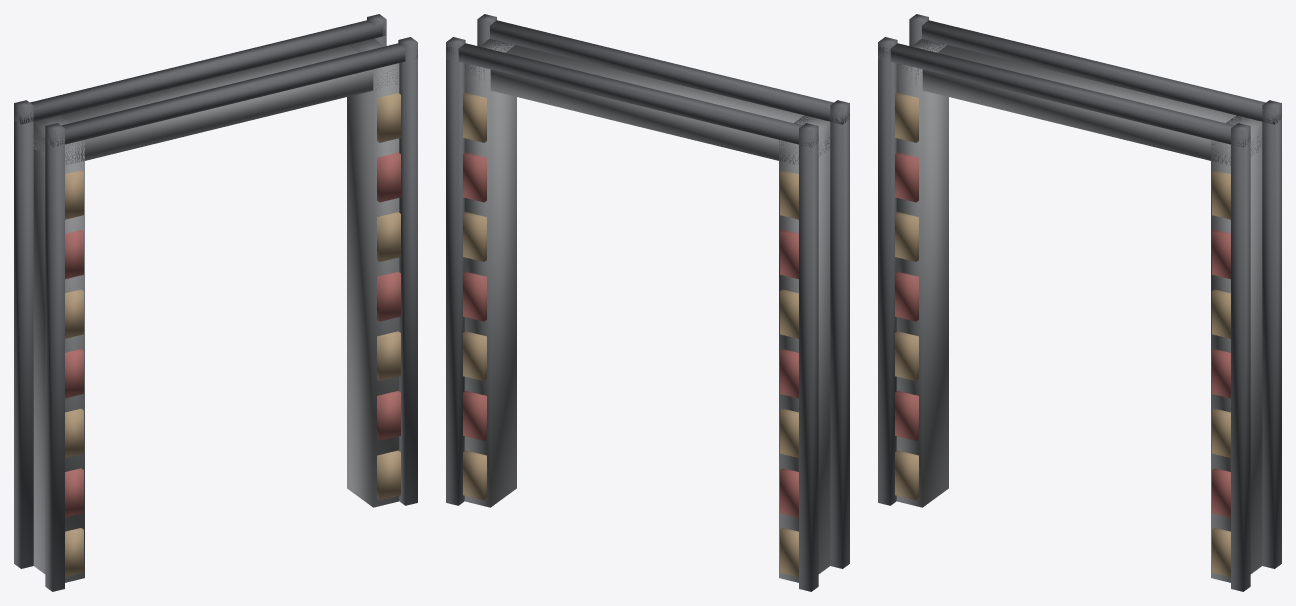
File: doorway_brick_return_w152_h210_d24.glb
3 views of the same model, side by side, from view 1: azimuth 30°, elevation 25°; view 2: azimuth 150°, elevation 25°; view 3: azimuth 330°, elevation 25° (orthographic).
Parts seen in each view (by area): view 1: world; view 2: world; view 3: world.
Boxes of the visible parts, x1,y1,x2,y2 form: world: (14, 14, 417, 591); world: (446, 14, 849, 591); world: (878, 14, 1281, 591).
Size of the model in its own units: 1.92 by 2.32 by 0.3516.
